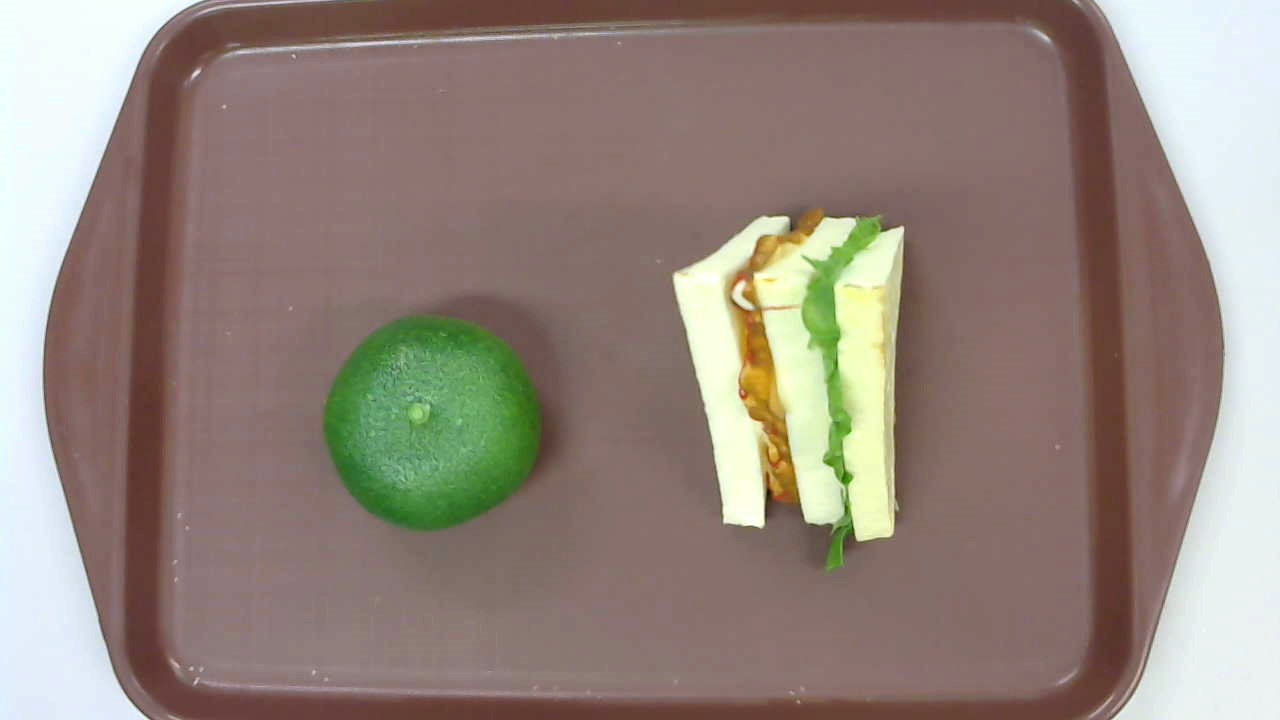green orange: (324, 315, 541, 533)
sandwich: (673, 208, 904, 573)
